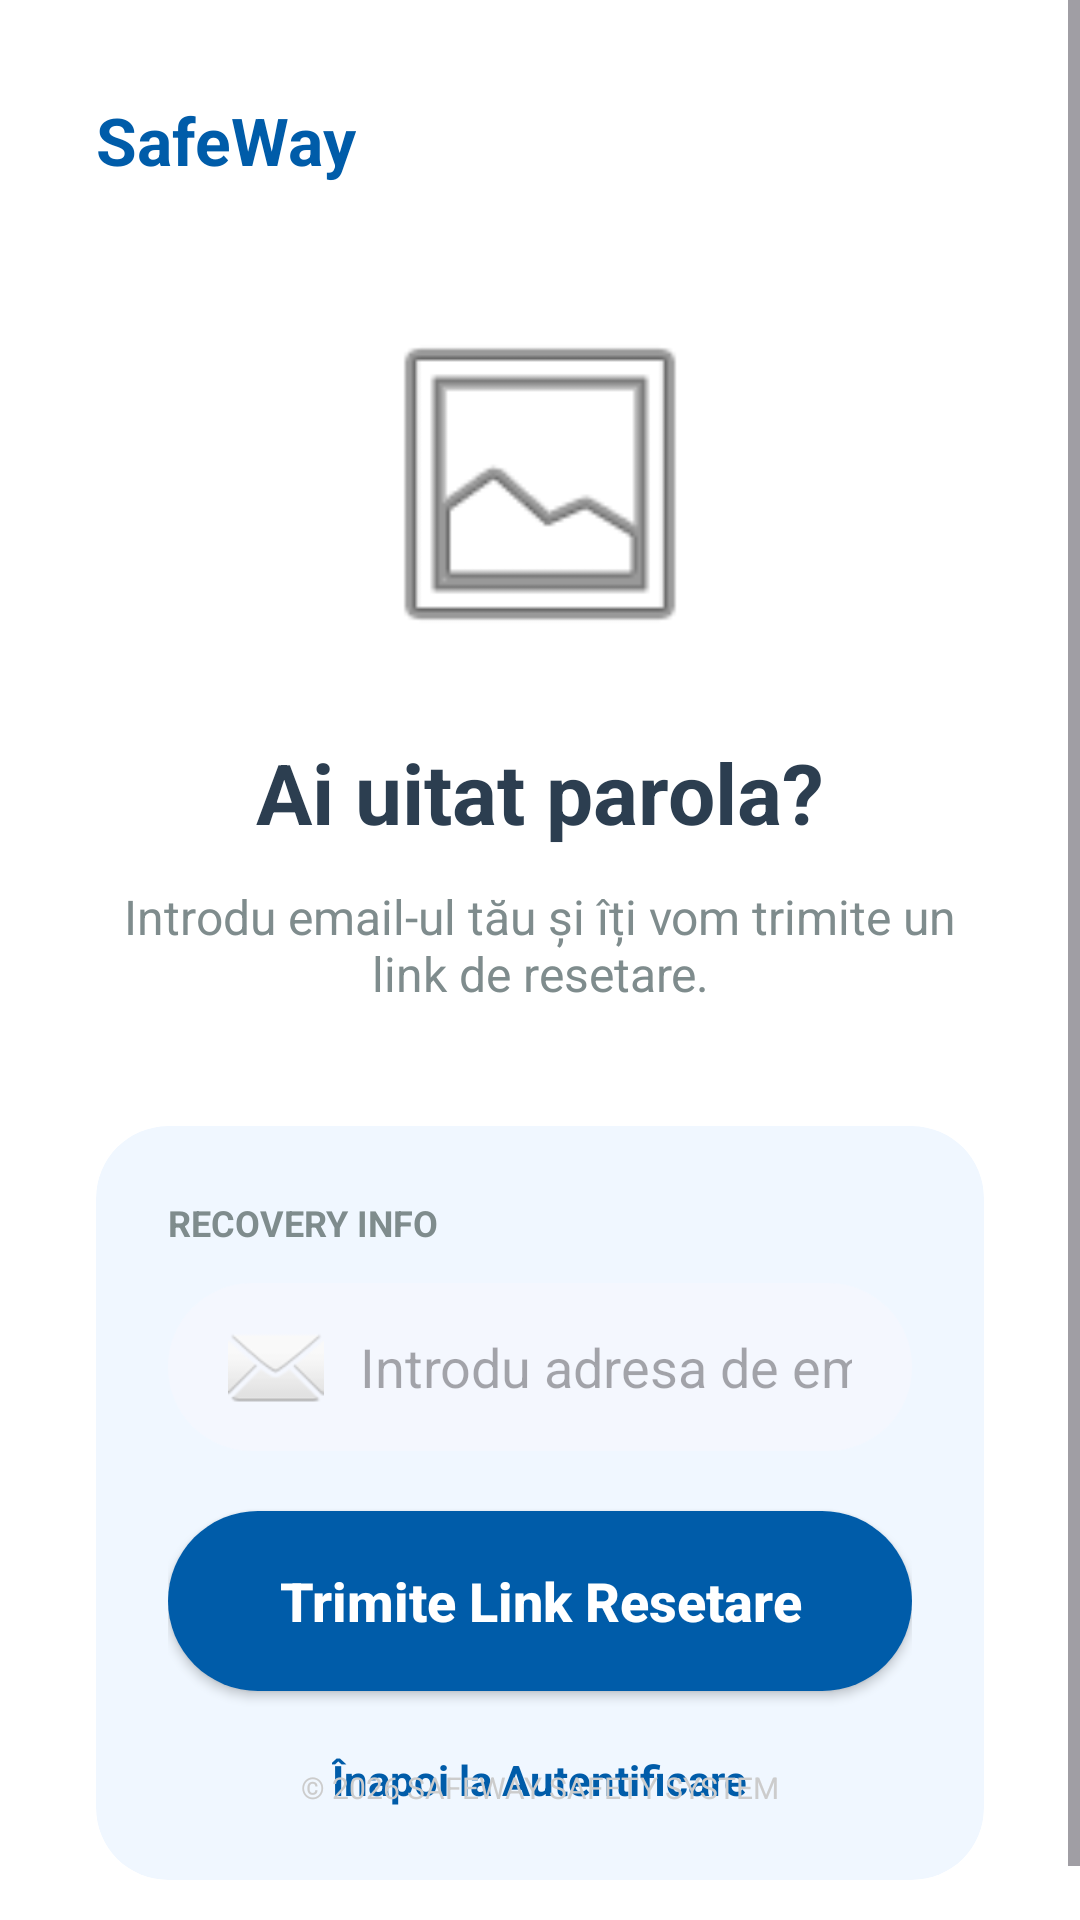

Icon click points for this 1080px×1920px phone screenshot, format [x,y]:
gallery: [540,484]
